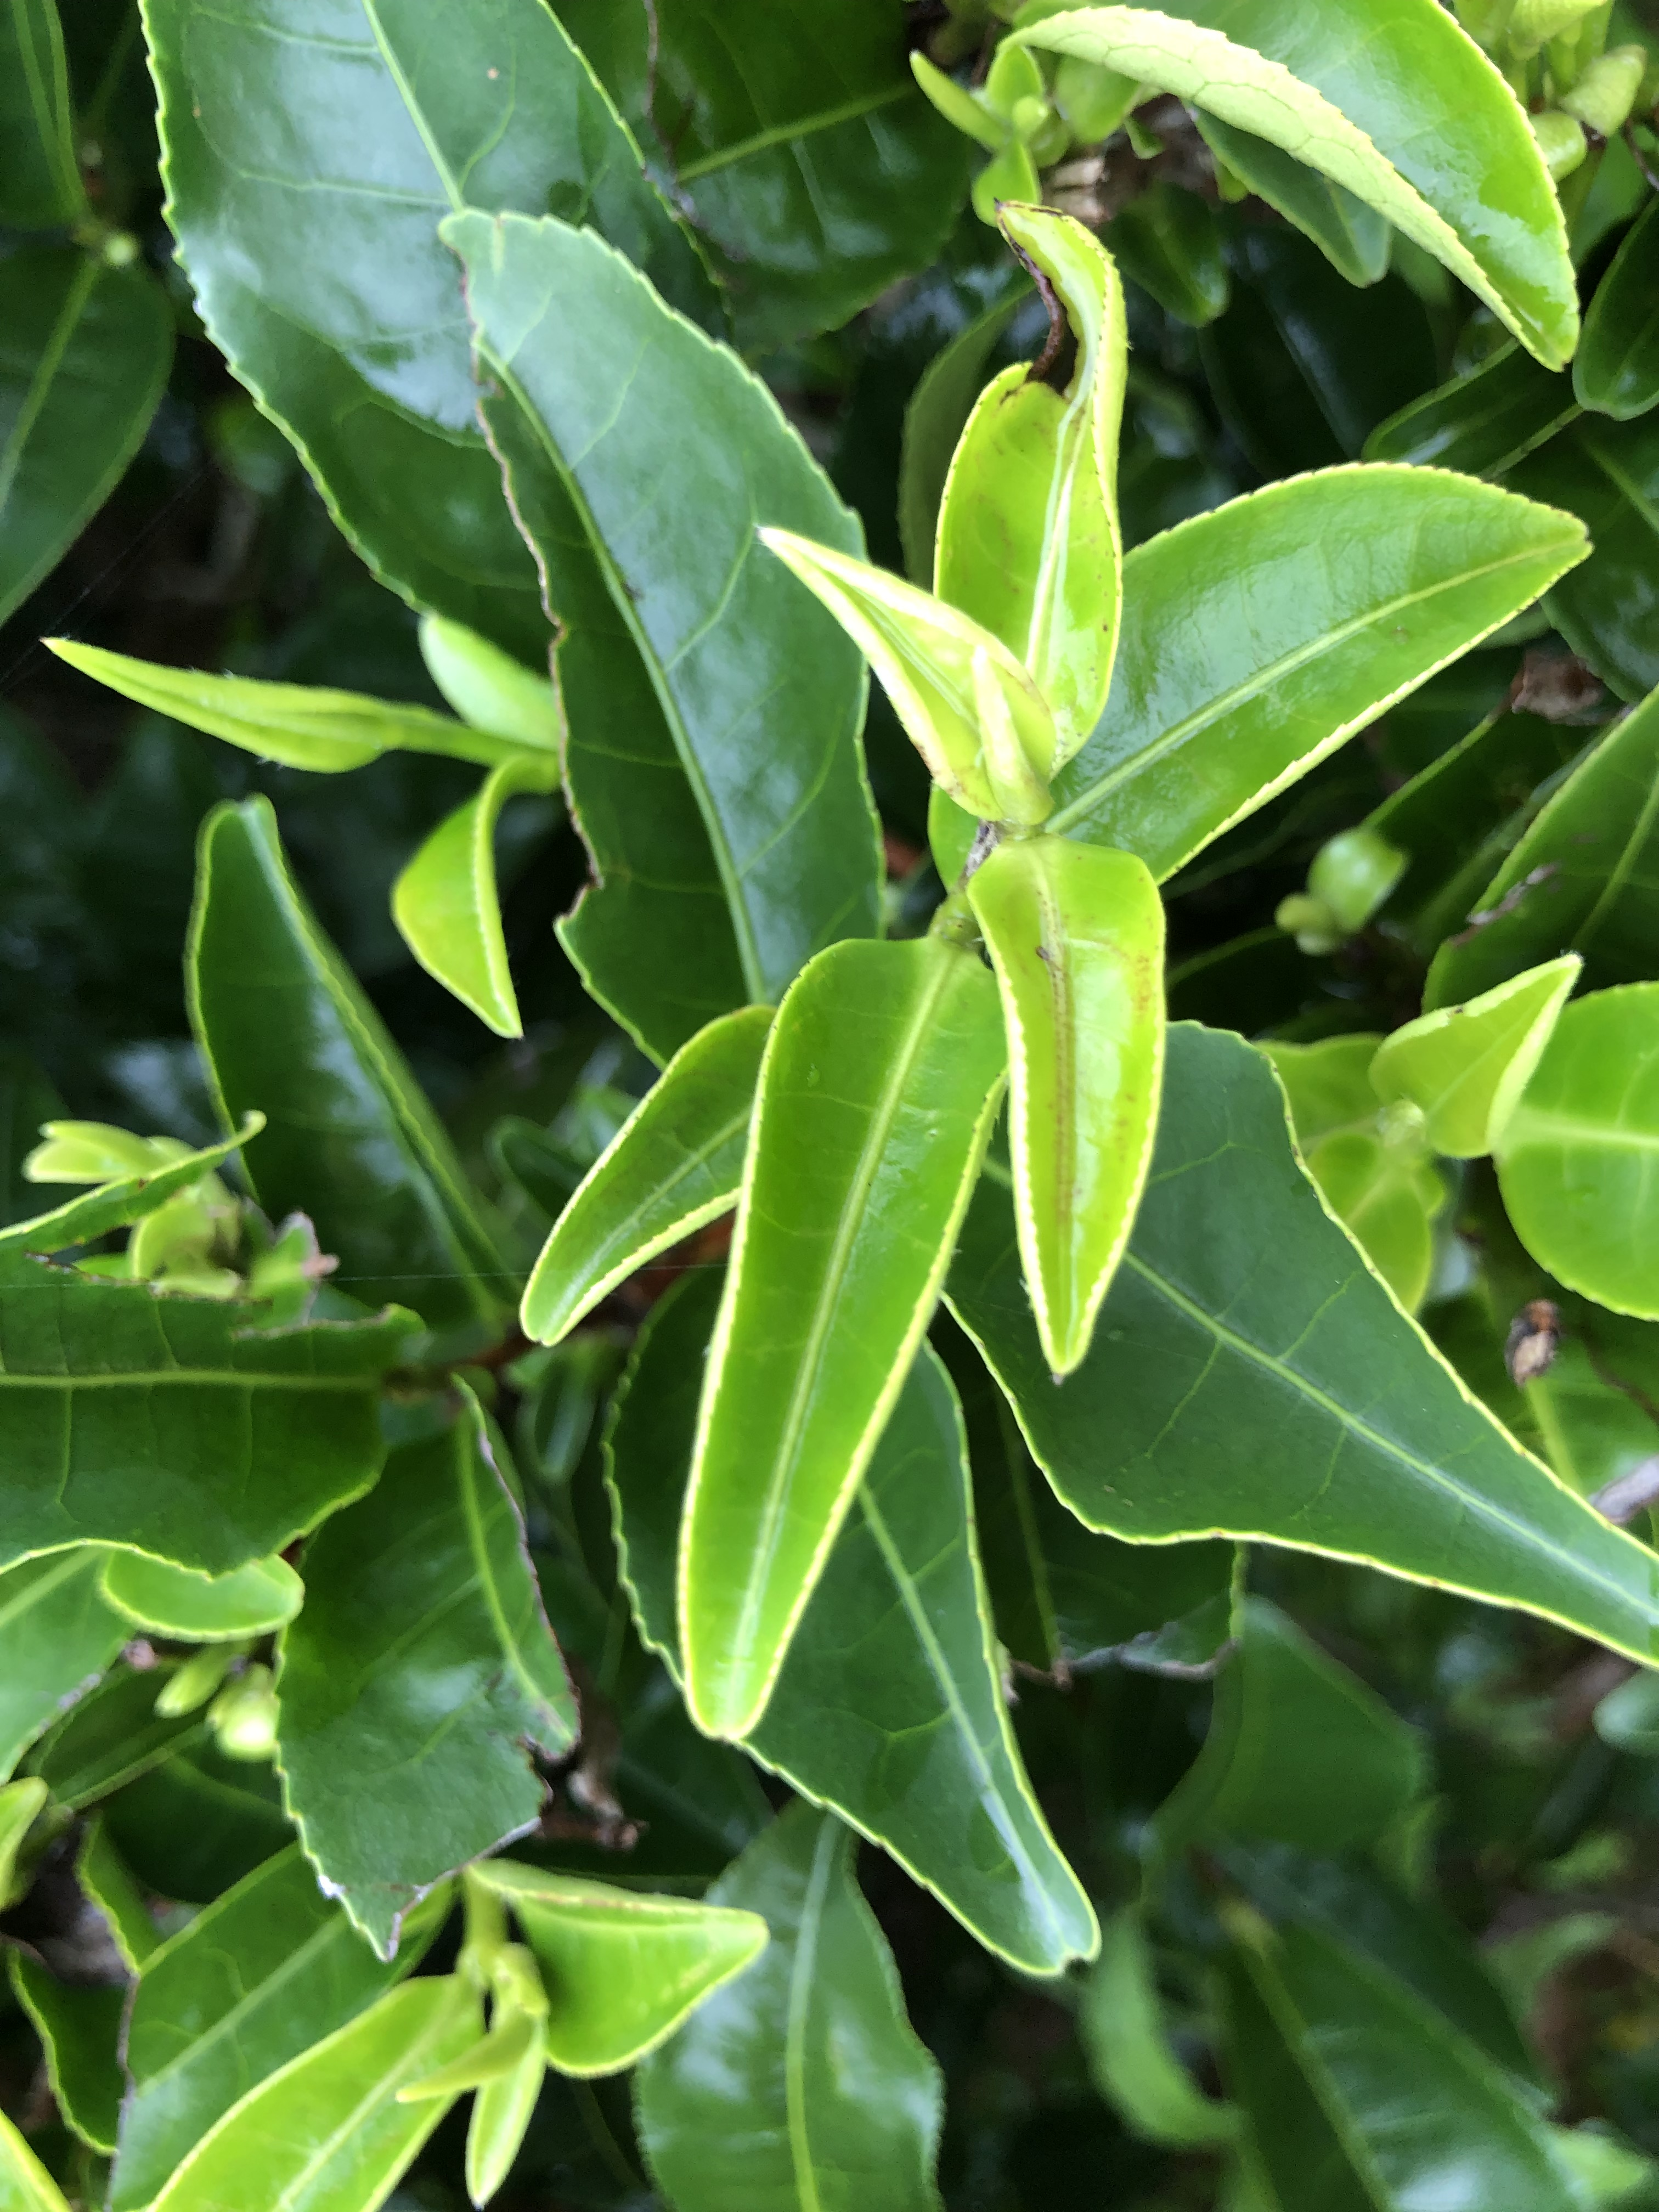formosa: (971, 824, 1176, 1338)
tortrix: (941, 183, 1150, 758)
